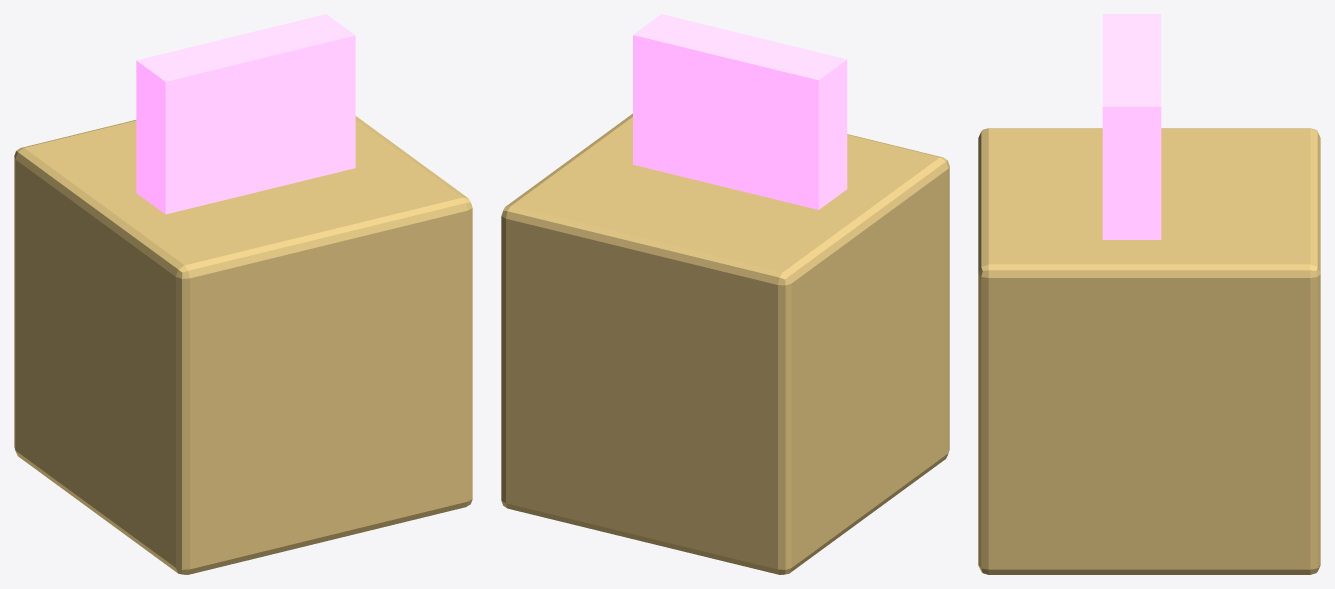
Rendered from SM_Keeper_OverlordEcho_Frag5.fbx.
3 views of the same model, side by side, from view 1: azimuth 30°, elevation 25°; view 2: azimuth 150°, elevation 25°; view 3: azimuth 270°, elevation 25° (orthographic). The views are drawn at different scales.
Parts seen in each view (by area): view 1: SM_Keeper_OverlordEcho_Frag5; view 2: SM_Keeper_OverlordEcho_Frag5; view 3: SM_Keeper_OverlordEcho_Frag5.
Part boxes in pixels (bbox=[...]): SM_Keeper_OverlordEcho_Frag5: bbox=[14, 14, 472, 574]; SM_Keeper_OverlordEcho_Frag5: bbox=[501, 14, 949, 574]; SM_Keeper_OverlordEcho_Frag5: bbox=[978, 14, 1320, 574].
Bounding box in the file's own units: 1 × 1.43 × 1.
